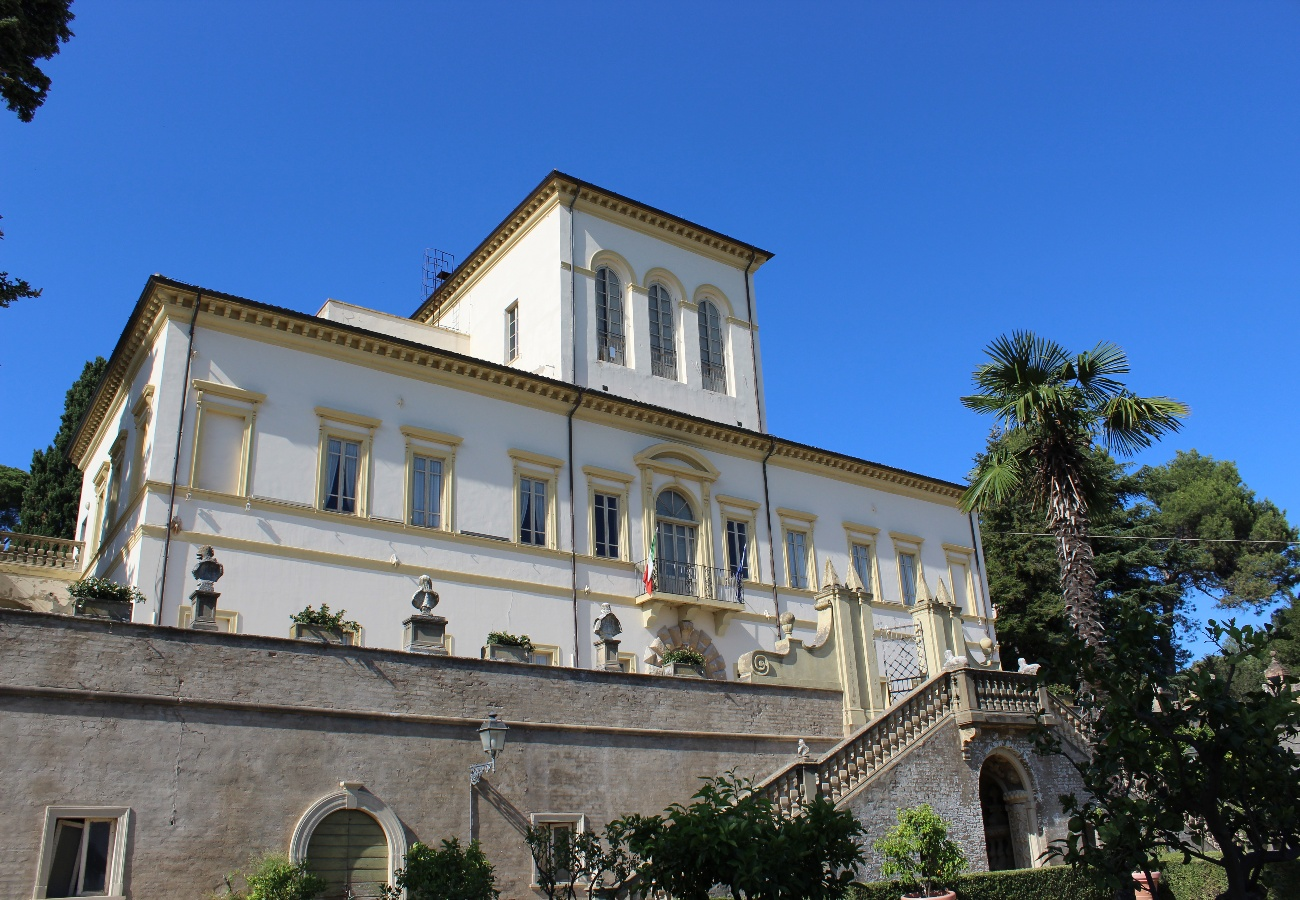Villa Caprile: (47, 166, 1007, 716)
